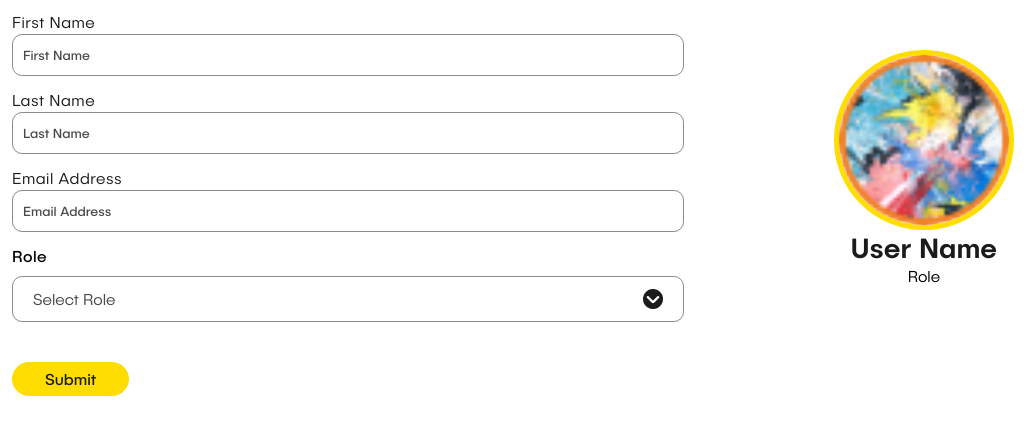
UserForm Component › Validates email format
Note: ✅ Type invalid email
In the field with placeholder "Email Address": [348, 211] box x1=12 y1=190 x2=684 y2=232, type "invalid-email"
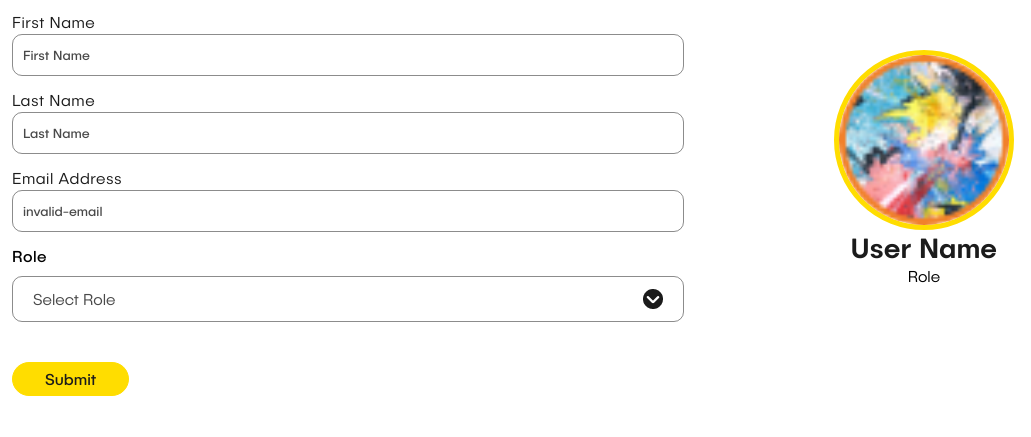
Note: ✅ Click submit
Click the button "Submit": [71, 379] box x1=12 y1=362 x2=129 y2=396
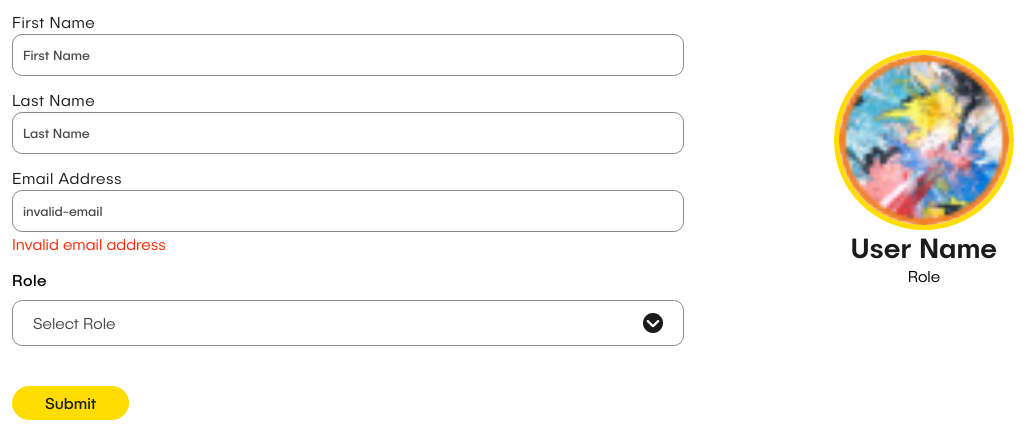
Now the text "Invalid email address" is shown, box x1=12 y1=234 x2=166 y2=253
